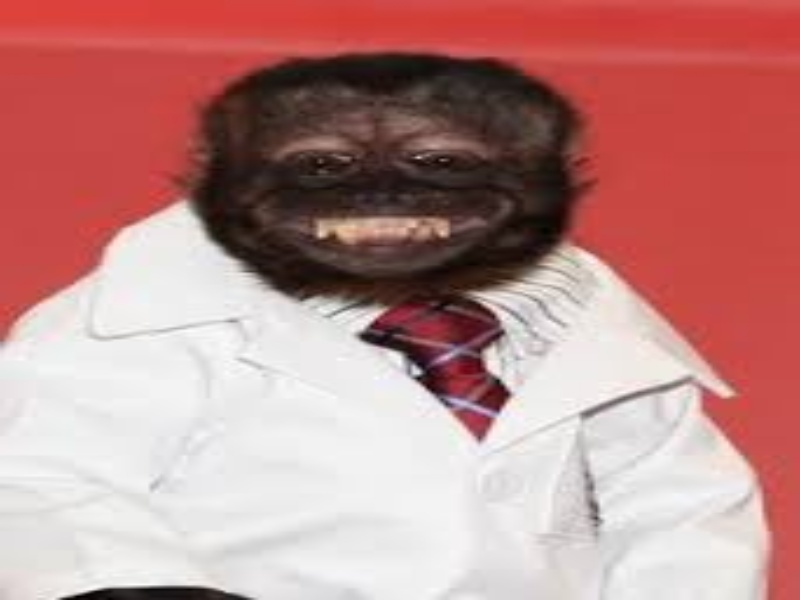monkey: (71, 9, 655, 297)
